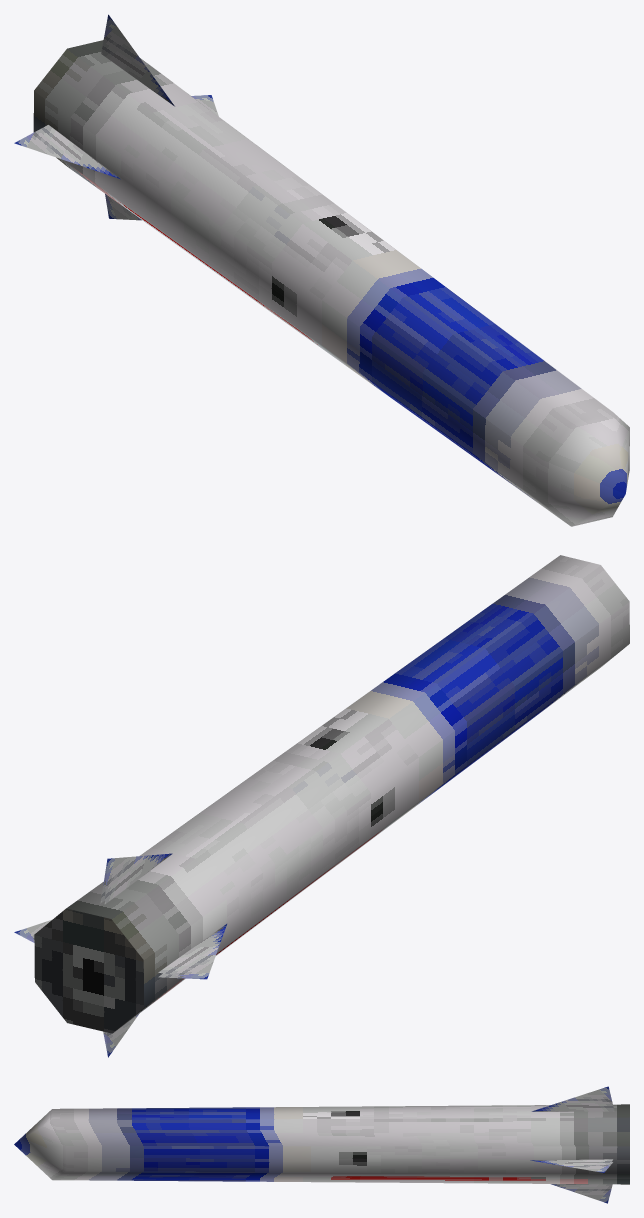
File: wpn_missile_space_s03_l3.fbx
3 views of the same model, one above another, from view 1: azimuth 30°, elevation 25°; view 2: azimuth 150°, elevation 25°; view 3: azimuth 270°, elevation 25° (orthographic). The views are drawn at different scales.
Visible parts, largest first — view 1: mesh_node; view 2: mesh_node; view 3: mesh_node.
Part boxes in pixels (x1=…): mesh_node: x1=14, y1=14, x2=629, y2=526; mesh_node: x1=14, y1=555, x2=629, y2=1057; mesh_node: x1=14, y1=1086, x2=629, y2=1203.
Bounding box in the file's own units: 0.4245 × 0.4191 × 1.99.
1 material, 1 textured.
